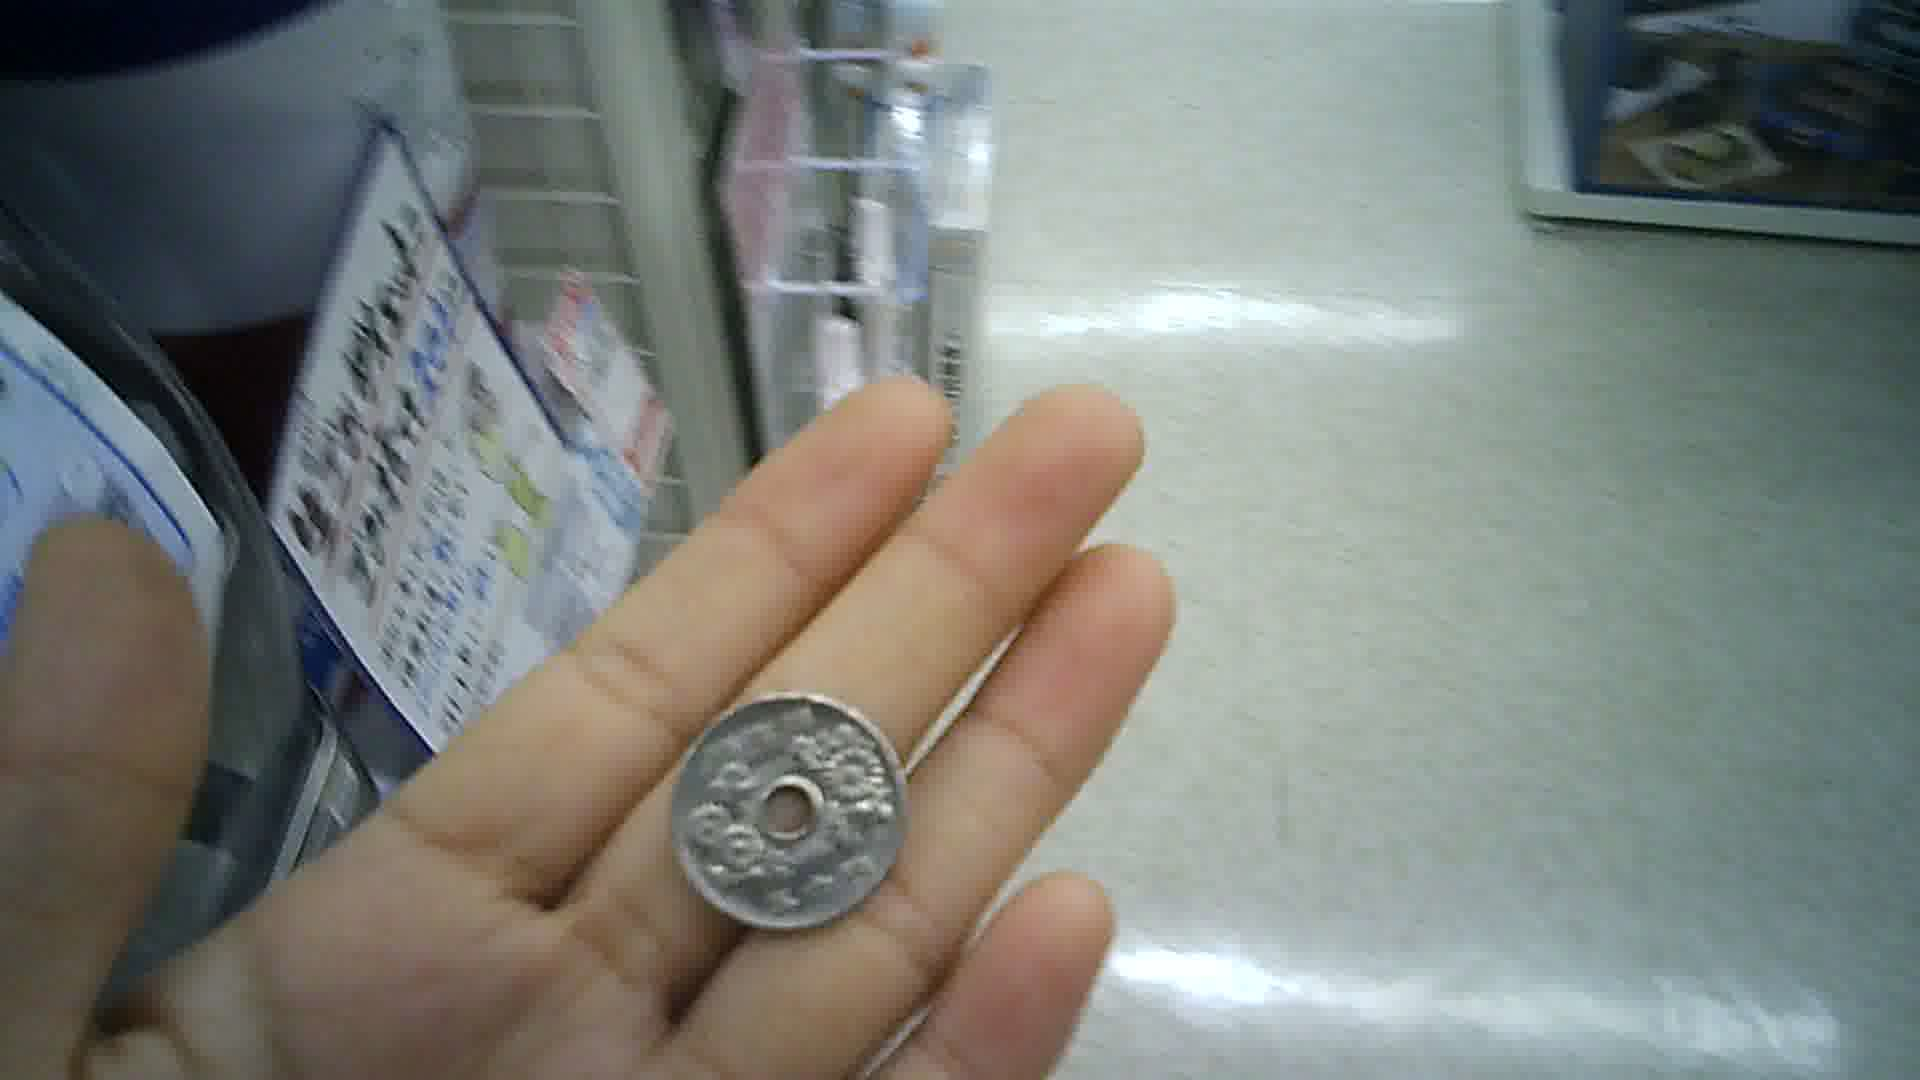50 Yen: (665, 692, 916, 939)
